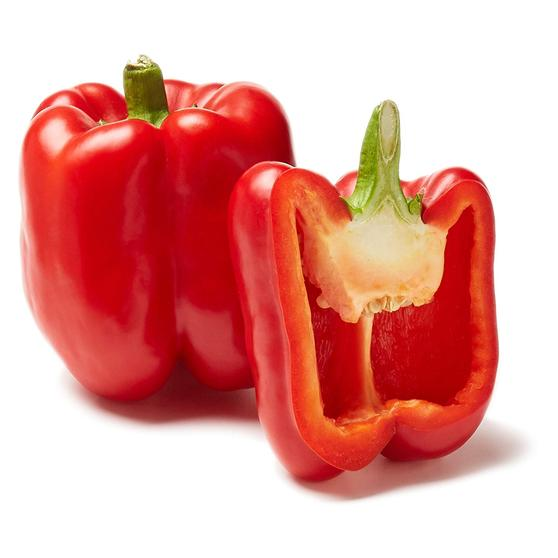pepper: (30, 76, 293, 403)
